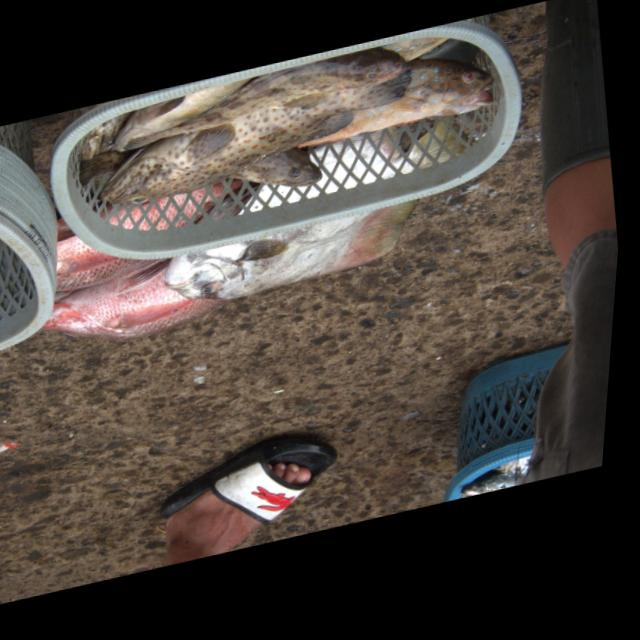Groupers: (89, 59, 423, 213), (283, 41, 502, 156)
